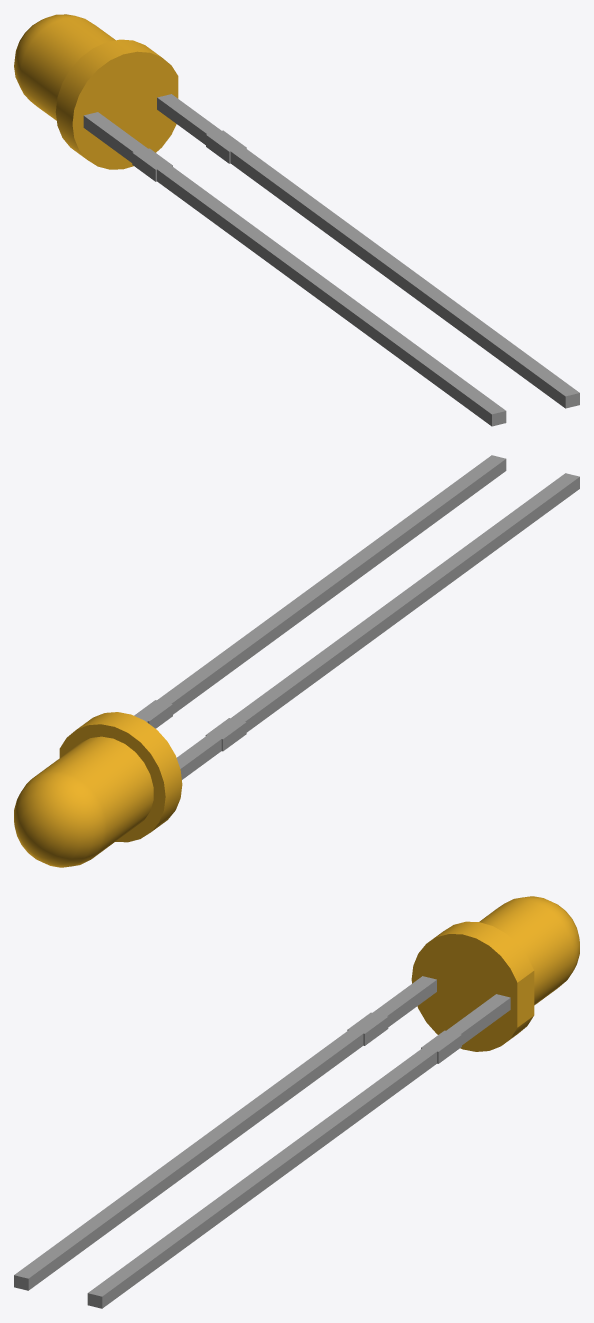
The model's file is 3MMLED-YELLOW v1.obj.
The picture shows the model from 3 angles, top to bottom: view 1: azimuth 30°, elevation 25°; view 2: azimuth 150°, elevation 25°; view 3: azimuth 330°, elevation 25°; orthographic projection.
Parts seen in each view (by area): view 1: Solid1; view 2: Solid1; view 3: Solid1.
Part boxes in pixels (x1,y1,x2,y2): Solid1: (14, 14, 579, 426); Solid1: (14, 455, 579, 867); Solid1: (14, 896, 579, 1308).
Size of the model in its own units: 3.65 by 3.79 by 29.7.
